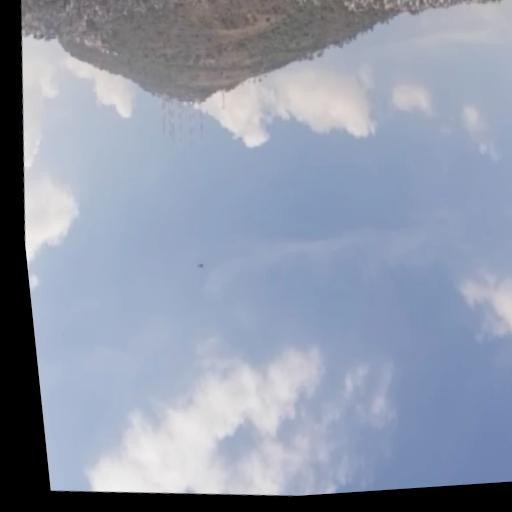drones: (196, 258, 209, 271)
